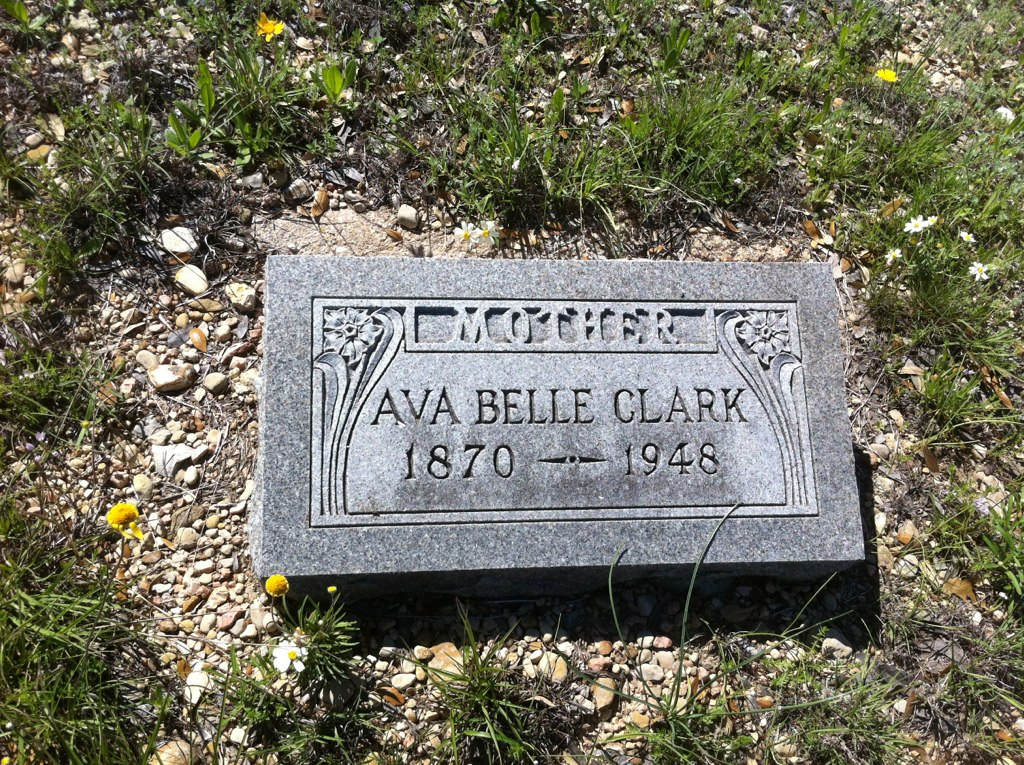flat: (253, 247, 868, 580)
